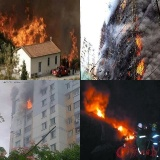fire: (1, 9, 46, 46), (136, 32, 146, 76), (67, 30, 79, 65), (122, 16, 139, 31), (95, 106, 106, 119), (26, 99, 34, 110), (125, 132, 136, 140), (116, 123, 124, 132), (122, 1, 126, 8), (101, 59, 105, 64), (127, 70, 130, 76), (113, 65, 116, 68), (128, 38, 129, 42)
